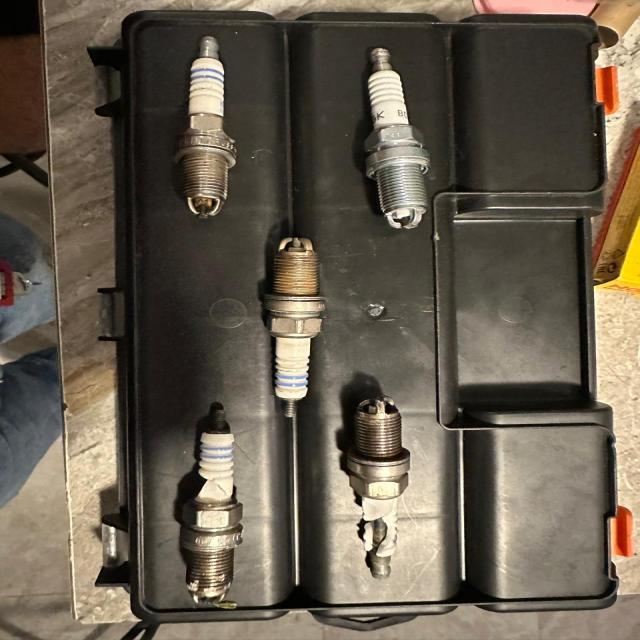damaged_spark-plug: (185, 406, 252, 600), (344, 402, 407, 567)
spark-plug: (366, 46, 446, 234), (171, 24, 248, 217), (261, 231, 340, 408)
